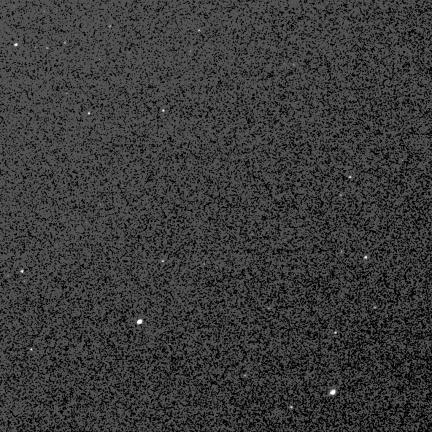blob: (330, 389, 335, 394), (137, 319, 142, 324), (162, 109, 165, 113), (14, 44, 18, 47), (290, 406, 294, 409), (349, 176, 352, 179), (364, 256, 367, 259), (21, 270, 24, 273), (46, 47, 49, 50), (64, 42, 67, 45), (335, 332, 338, 335), (88, 112, 90, 115)
